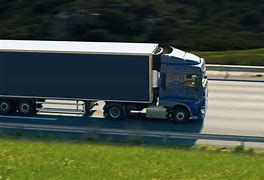bigtruck: (0, 35, 209, 130)
